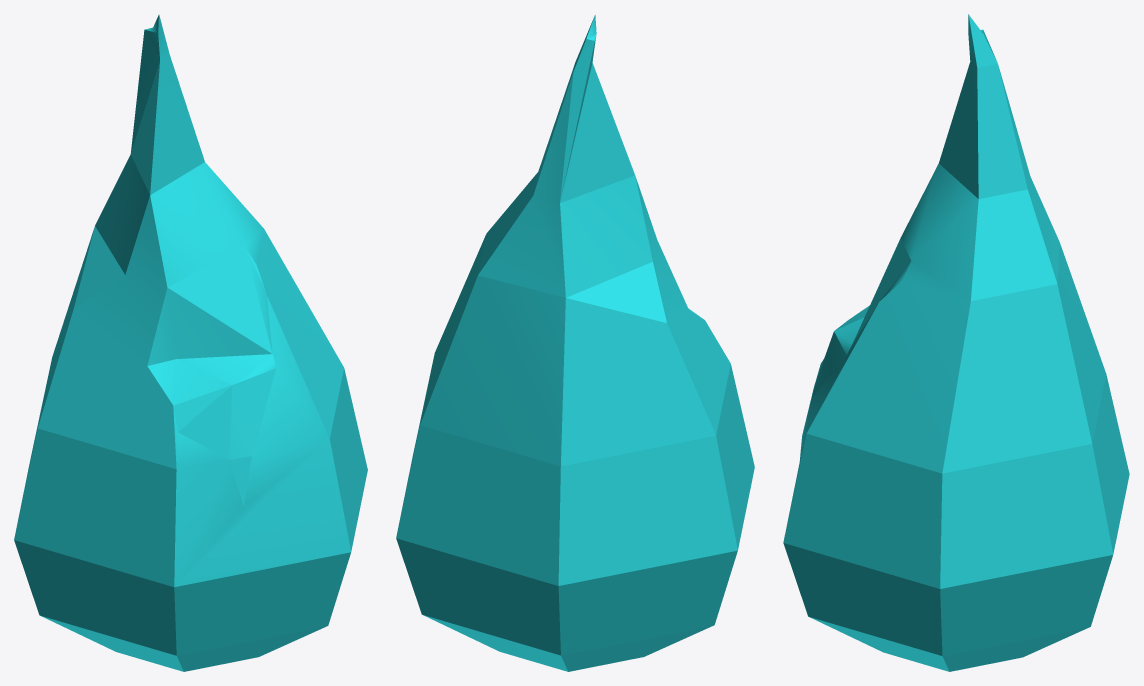
The model's file is Water_Low.fbx.
The picture shows the model from 3 angles, left to right: view 1: azimuth 30°, elevation 25°; view 2: azimuth 150°, elevation 25°; view 3: azimuth 270°, elevation 25°; orthographic projection. The views are drawn at different scales.
Visible parts, largest first — view 1: polySurface19; view 2: polySurface19; view 3: polySurface19.
Boxes of the visible parts, x1,y1,x2,y2 form: polySurface19: [14, 14, 367, 671]; polySurface19: [396, 15, 754, 671]; polySurface19: [783, 14, 1129, 671].
Bounding box in the file's own units: 11.85 × 21.26 × 10.77.
